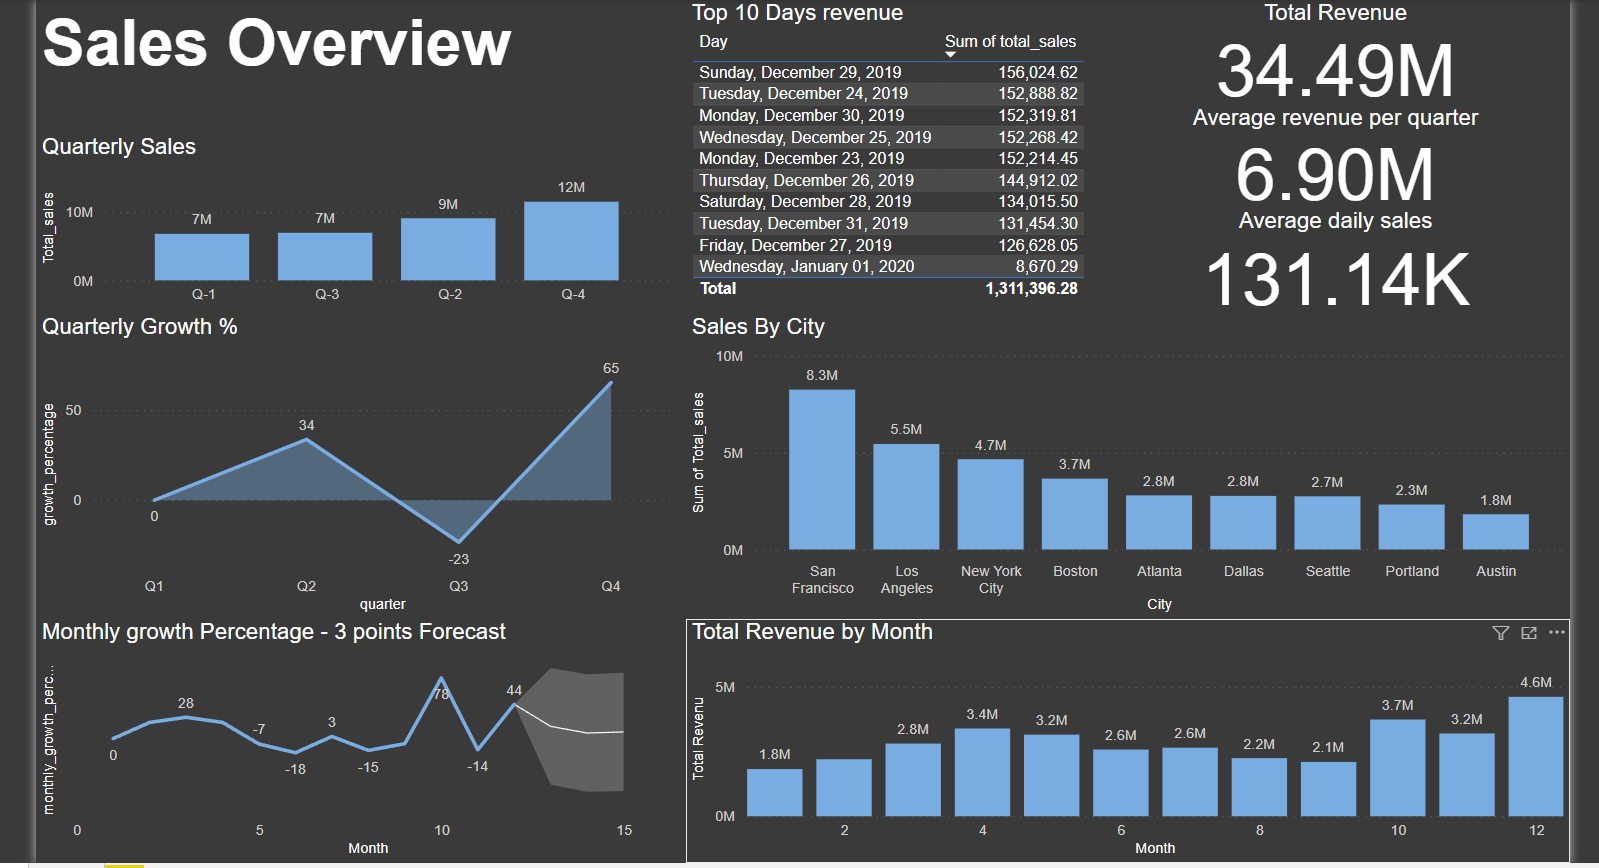

This screenshot's page, from the dashboard's own definition file:
{"tool":"powerbi","page":{"name":"Page 1","canvas":[1280,720],"ordinal":0},"visuals":[{"type":"card","title":"Total Revenue","fields":{"Values":["Sum(Total_sales.Total_sales)"]},"box":[888.4,0,391.6,88],"z":0},{"type":"clusteredColumnChart","title":"Quarterly Sales","fields":{"Category":["yearly_quartrs_sales.year_quarters"],"Y":["Sum(yearly_quartrs_sales.Total_sales)"]},"box":[0,112.1,535.6,150.1],"z":1000},{"type":"tableEx","title":"Top 10 Days revenue","fields":{"Values":["Top_10_days.Day","Sum(Top_10_days.total_sales)"]},"box":[542.5,0,345.9,255.3],"z":2000},{"type":"lineChart","title":"Monthly growth Percentage - 3 points Forecast","fields":{"Category":["Monthly_growth.Month"],"Y":["Sum(Monthly_growth.monthly_growth_percentage)"]},"box":[0,516.7,535.6,203.6],"z":3000},{"type":"columnChart","title":"Total Revenue by Month","fields":{"Category":["Monthly_growth.Month"],"Y":["Sum(Monthly_growth.Total Revenu)"]},"box":[542.5,516.7,737.5,203.6],"z":4000},{"type":"card","title":"Average revenue per quarter","fields":{"Values":["Avg(yearly_quartrs_sales.Total_sales)"]},"box":[888.4,88,391.6,85.4],"z":5000},{"type":"card","fields":{"Values":["Avg(Monthly_growth.Total Revenu)"]},"box":[947.9,296.7,185.4,112.1],"z":6000},{"type":"card","title":"Average daily sales","fields":{"Values":["Avg(Top_10_days.total_sales)"]},"box":[888.4,173.4,391.6,88.8],"z":7000},{"type":"areaChart","title":"Quarterly Growth %","fields":{"Category":["quartrly growth.quarter"],"Y":["Sum(quartrly growth.growth_percentage)"],"Series":["quartrly growth.year"]},"box":[0,262.2,535.6,254.4],"z":8000},{"type":"textbox","box":[0,0,535.6,104.4],"z":9000},{"type":"columnChart","title":"Sales By City","fields":{"Category":["Sales_by_city.City"],"Y":["Sum(Sales_by_city.Total_sales)"]},"box":[542.5,262.2,737.5,254.4],"z":10000}]}

Visuals, with their boxes on the page's 1280x720 design canvas (x1, y1, x2, y2). These are canvas units, not pixel positions in the 1599x868 screenshot, which may show the page scaled, cropped or inside an application window:
"Total Revenue" card: [888, 0, 1280, 88]
"Quarterly Sales" clusteredColumnChart: [0, 112, 536, 262]
"Top 10 Days revenue" tableEx: [542, 0, 888, 255]
"Monthly growth Percentage - 3 points Forecast" lineChart: [0, 517, 536, 720]
"Total Revenue by Month" columnChart: [542, 517, 1280, 720]
"Average revenue per quarter" card: [888, 88, 1280, 173]
card - Avg(Monthly_growth.Total Revenu): [948, 297, 1133, 409]
"Average daily sales" card: [888, 173, 1280, 262]
"Quarterly Growth %" areaChart: [0, 262, 536, 517]
textbox: [0, 0, 536, 104]
"Sales By City" columnChart: [542, 262, 1280, 517]
